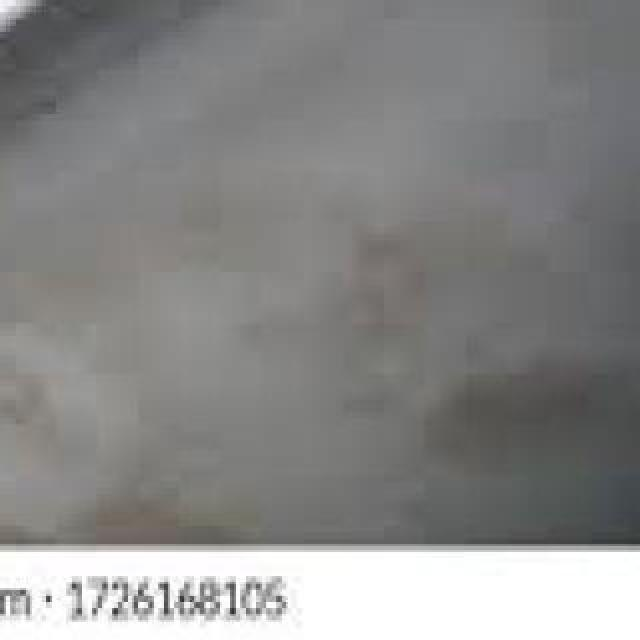fluorescent tube: (0, 0, 492, 456)
